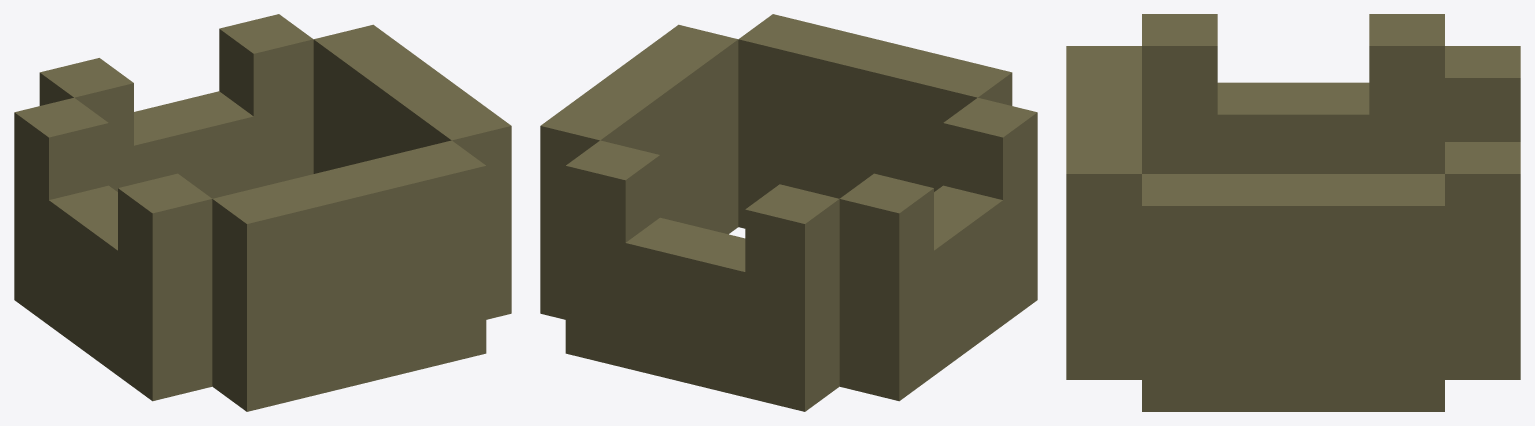
File: cord_coil.glb
3 renders of one model, left to right at view 1: azimuth 30°, elevation 25°; view 2: azimuth 150°, elevation 25°; view 3: azimuth 270°, elevation 25°, orthographic. The views are drawn at different scales.
Parts seen in each view (by area): view 1: nylon_cord:coil; view 2: nylon_cord:coil; view 3: nylon_cord:coil.
Boxes of the visible parts, x1=… form: nylon_cord:coil: x1=14, y1=14, x2=511, y2=411; nylon_cord:coil: x1=540, y1=14, x2=1037, y2=411; nylon_cord:coil: x1=1066, y1=14, x2=1520, y2=411.
Size of the model in its own units: 0.06 by 0.03 by 0.06.
